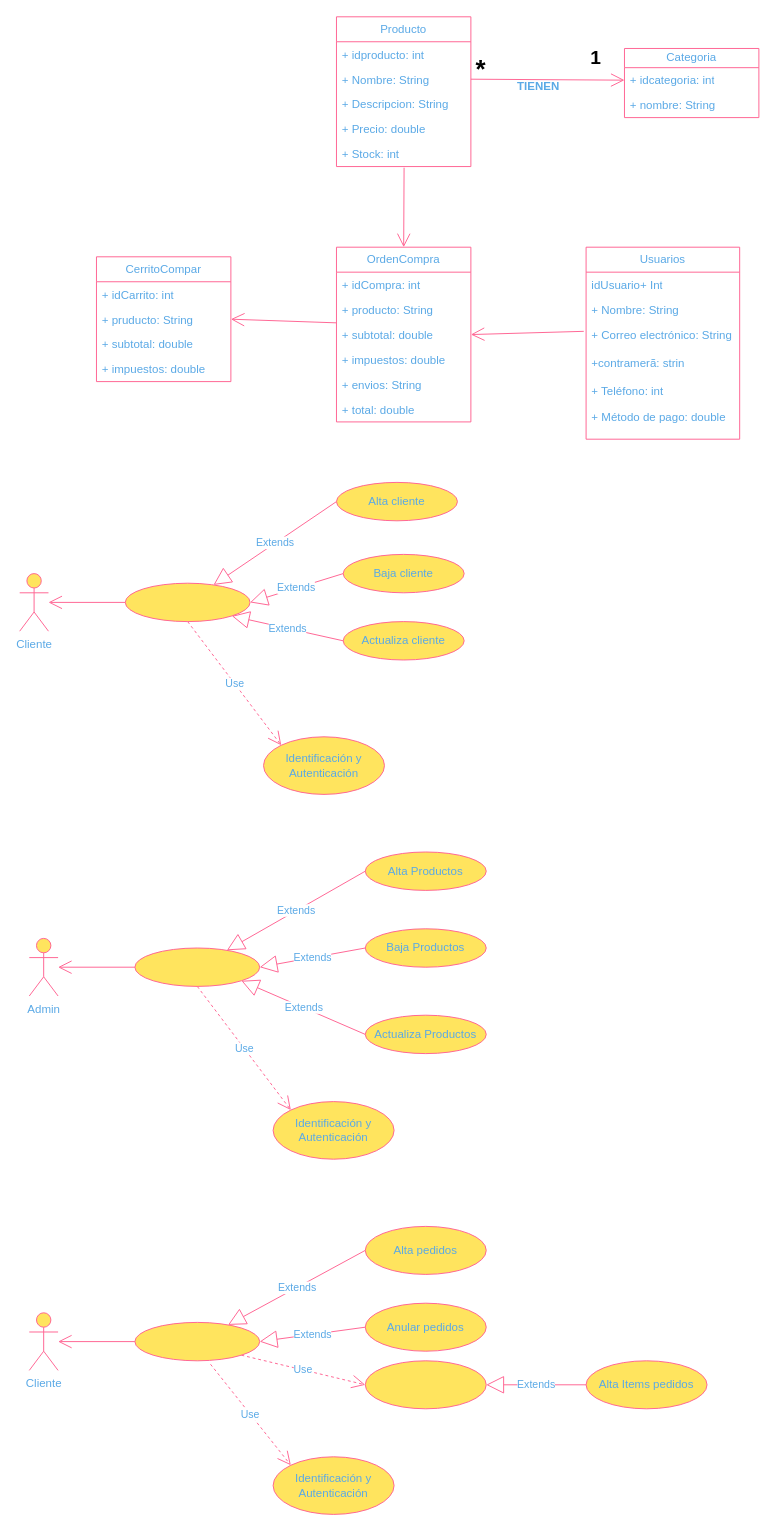
Image size: 776x1531. Some labels were removed from this diagram. Here are the shapes that lost their labels. From the top down, the centre of each, then its label:
(187,602): Gestion de clientes
(197,966): Gestión de productos
(197,1341): Gestión de pedidios
(425,1384): Irtems de pedidos
